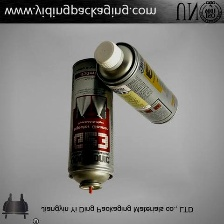aerosol_cans: (87, 37, 182, 129), (64, 55, 119, 196)
